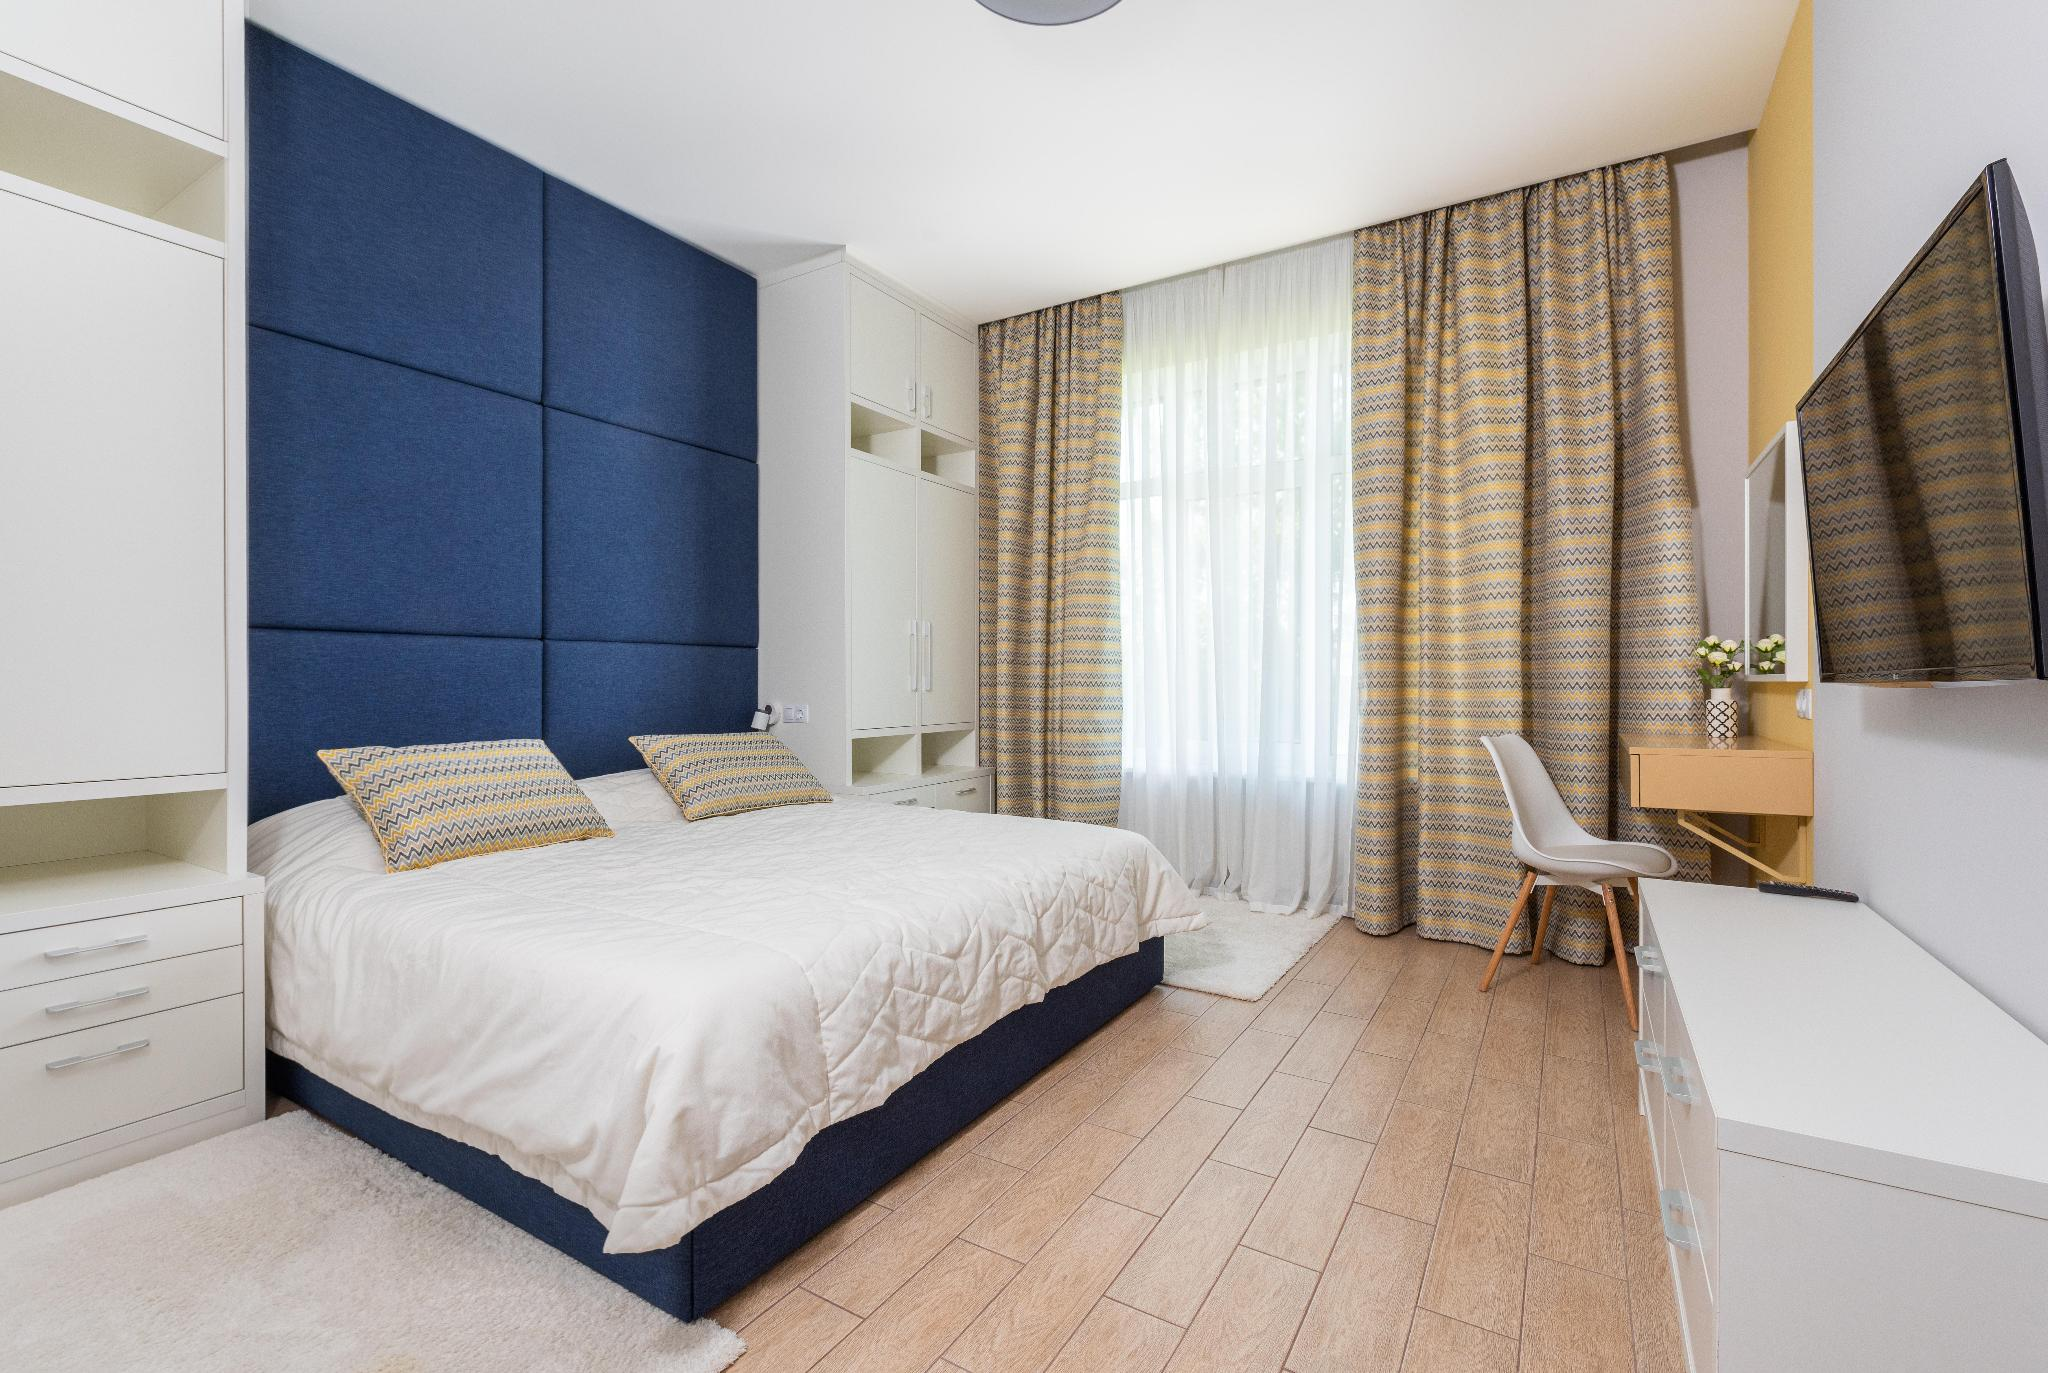1: (1817, 0, 2048, 371), (1817, 682, 2048, 1039), (1751, 0, 1817, 457)
Floor: (709, 921, 1685, 1373)
